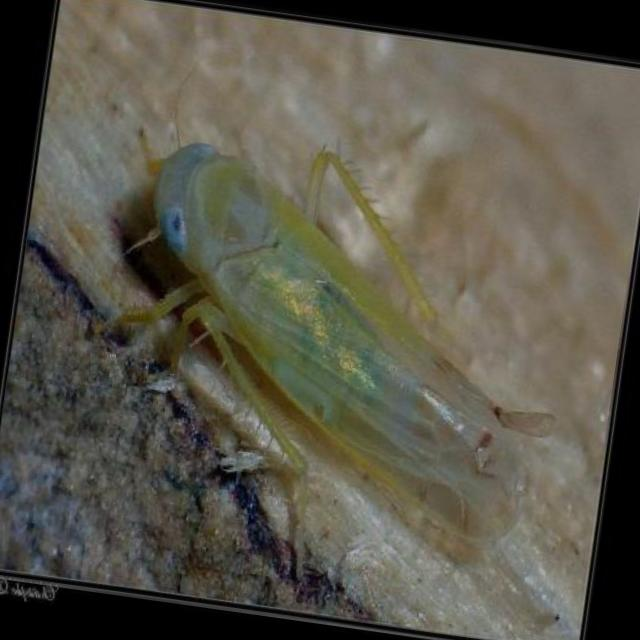green-leafhopper: (94, 125, 566, 548)
